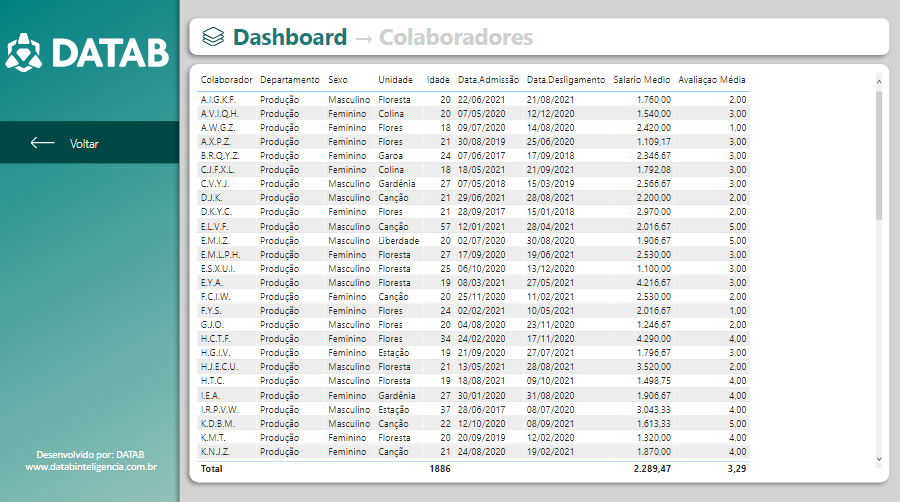

The page's visual inventory and layout, read from the dashboard file:
{"tool":"powerbi","page":{"name":"simulação","canvas":[1280,720],"ordinal":3},"visuals":[{"type":"actionButton","box":[0,176.1,252.8,56.8],"z":0},{"type":"textbox","box":[326.6,27,933,55.4],"z":1000},{"type":"tableEx","fields":{"Values":["RH.Colaborador","RH.Departamento","RH.Sexo","RH.Unidade","Sum(RH.Idade)","RH.Data.Admissão","RH.Data.Desligamento","Medidas.Salario Medio","Medidas.Avaliaçao Média"]},"box":[275.5,100.8,984.1,580.8],"z":1001}]}

Visuals, with their boxes on the page's 1280x720 design canvas (x1, y1, x2, y2). These are canvas units, not pixel positions in the 900x502 screenshot, which may show the page scaled, cropped or inside an application window:
actionButton: locate(0, 176, 253, 233)
textbox: locate(327, 27, 1260, 82)
tableEx - RH.Colaborador x RH.Departamento: locate(276, 101, 1260, 682)
